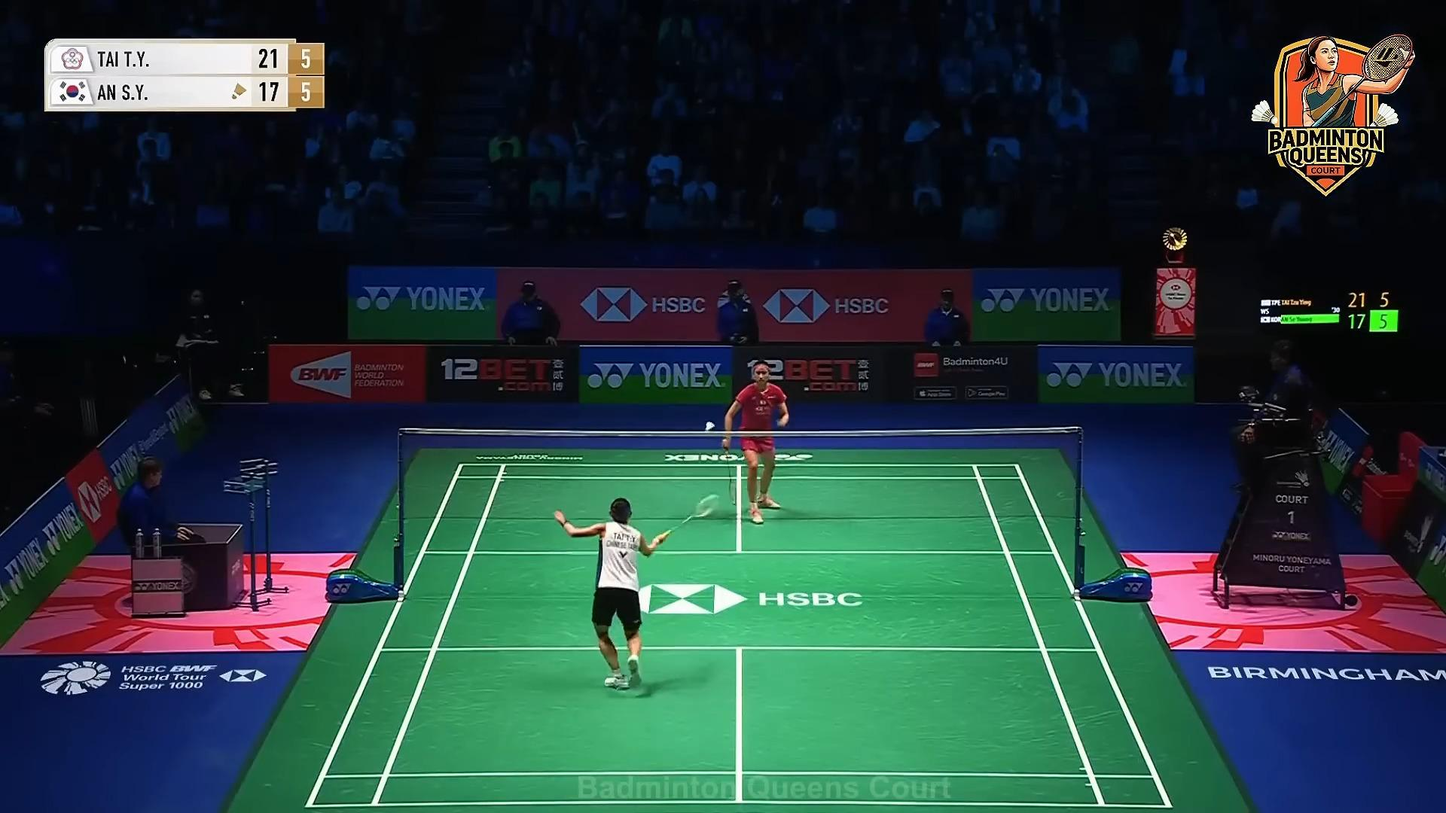player: (554, 497, 666, 690), (721, 358, 789, 525)
